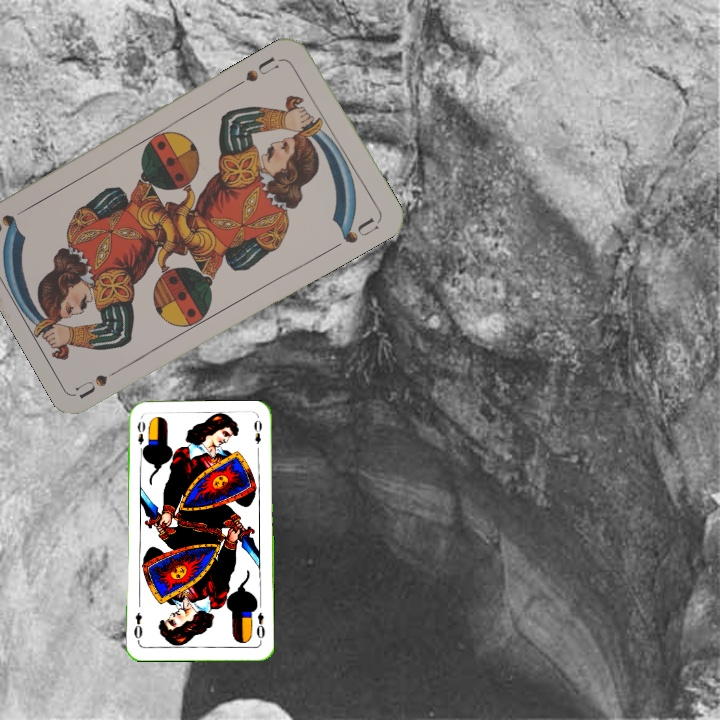EO: (134, 417, 148, 456), (253, 608, 268, 644)
SU: (72, 361, 129, 400), (241, 52, 288, 85)
